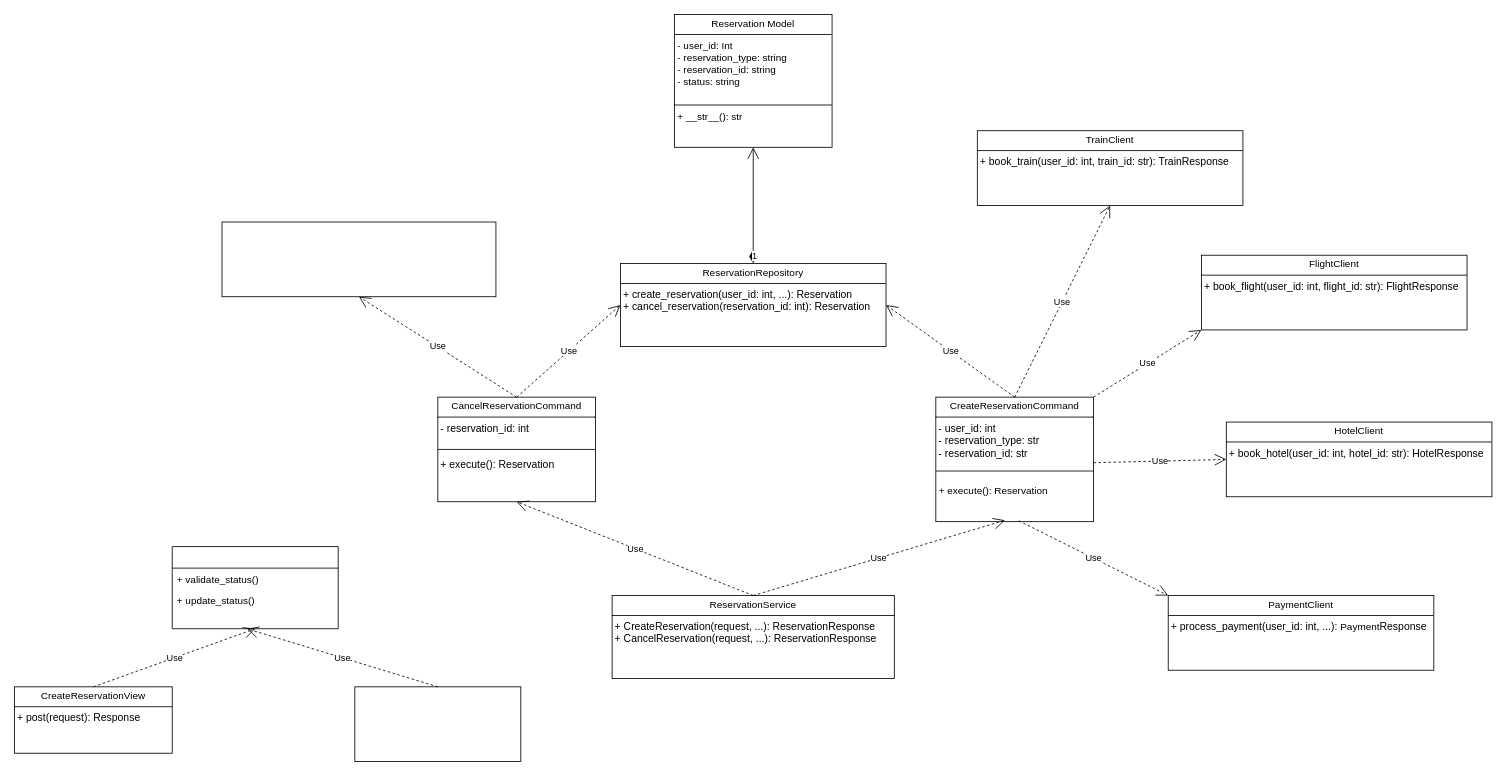
The diagram is 1506 pixels wide and 776 high, and some of its shapes have lost their labels. Each missing label, with the box of its shape:
CancelReservationView + post(request, ...): Response: (354, 686, 521, 762)
NotificationClient + send_notification(user_id: int, ...): NotificationResponse: (221, 221, 496, 297)
ReservationSerializer: (171, 546, 338, 629)
